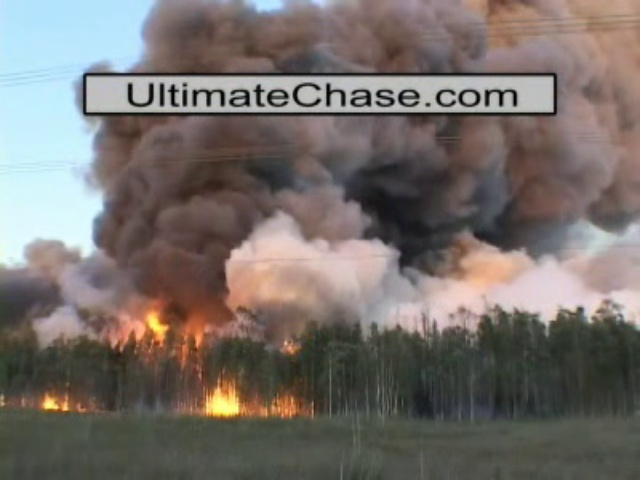fire: (204, 382, 247, 416), (138, 304, 179, 338)
